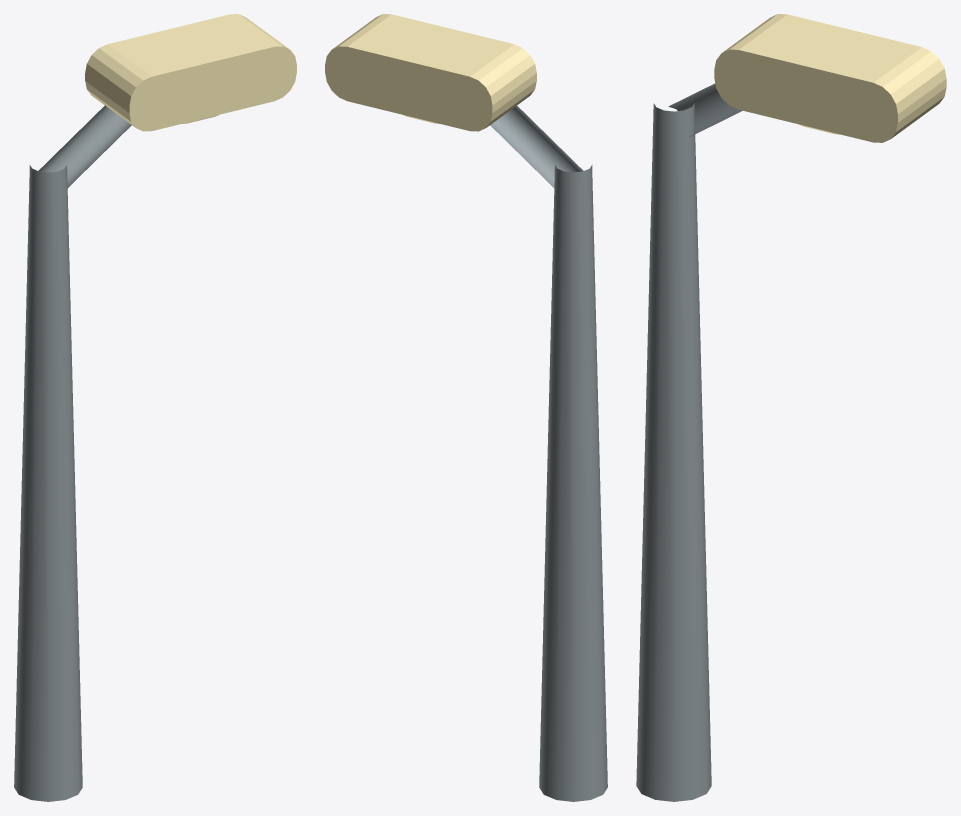
The model's file is street-lamp.glb.
3 renders of one model, left to right at view 1: azimuth 30°, elevation 25°; view 2: azimuth 150°, elevation 25°; view 3: azimuth 330°, elevation 25°, orthographic. The views are drawn at different scales.
Visible parts, largest first — view 1: tapered_post, rounded_lamp_head; view 2: tapered_post, rounded_lamp_head; view 3: tapered_post, rounded_lamp_head.
Part boxes in pixels (<box>): tapered_post: <box>14,105,131,801</box>; rounded_lamp_head: <box>85,14,296,131</box>; tapered_post: <box>490,105,607,801</box>; rounded_lamp_head: <box>325,14,536,131</box>; tapered_post: <box>636,83,742,801</box>; rounded_lamp_head: <box>714,14,946,142</box>.
Bounding box in the file's own units: 2.07 × 5.45 × 0.62.
